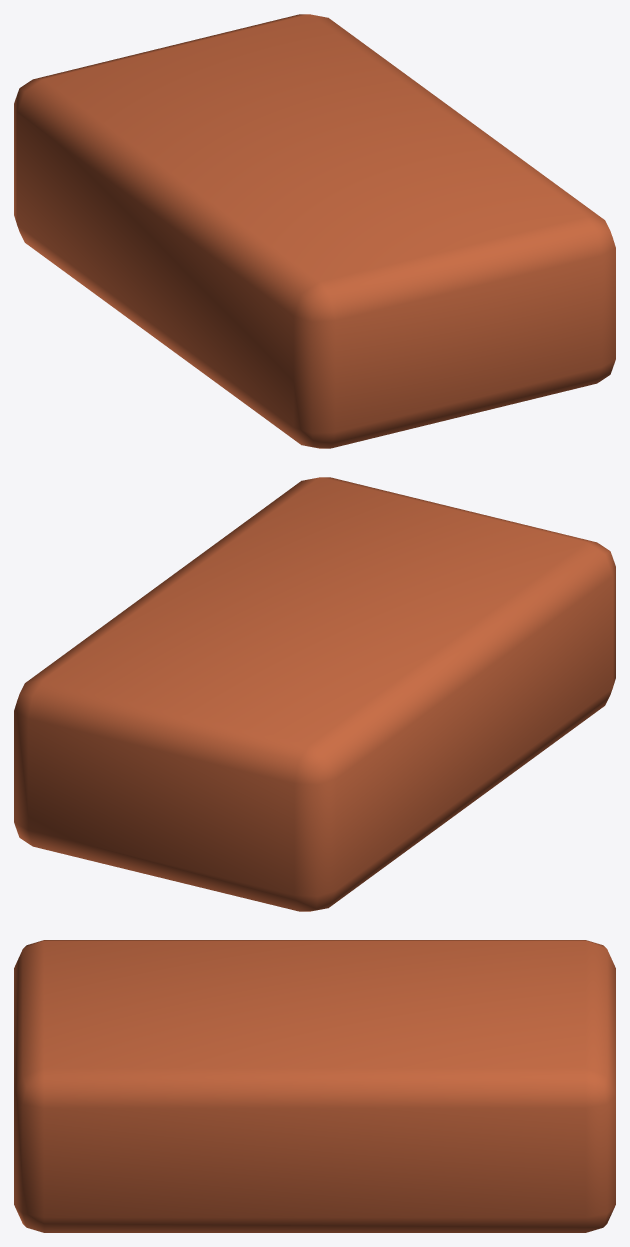
Rendered from mobile_fume_extractor_power_switch.glb.
The picture shows the model from 3 angles, top to bottom: view 1: azimuth 30°, elevation 25°; view 2: azimuth 150°, elevation 25°; view 3: azimuth 270°, elevation 25°; orthographic projection. The views are drawn at different scales.
Parts seen in each view (by area): view 1: mobile_fume_extractor_power_switch; view 2: mobile_fume_extractor_power_switch; view 3: mobile_fume_extractor_power_switch.
Part boxes in pixels (bbox=[...]): mobile_fume_extractor_power_switch: bbox=[14, 14, 615, 448]; mobile_fume_extractor_power_switch: bbox=[14, 477, 615, 911]; mobile_fume_extractor_power_switch: bbox=[14, 940, 615, 1232].
Bounding box in the file's own units: 0.024 × 0.012 × 0.04.
